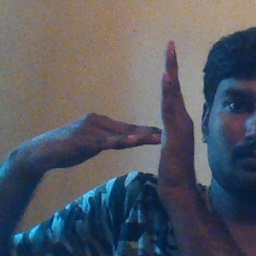Z: (96, 38, 199, 200)
